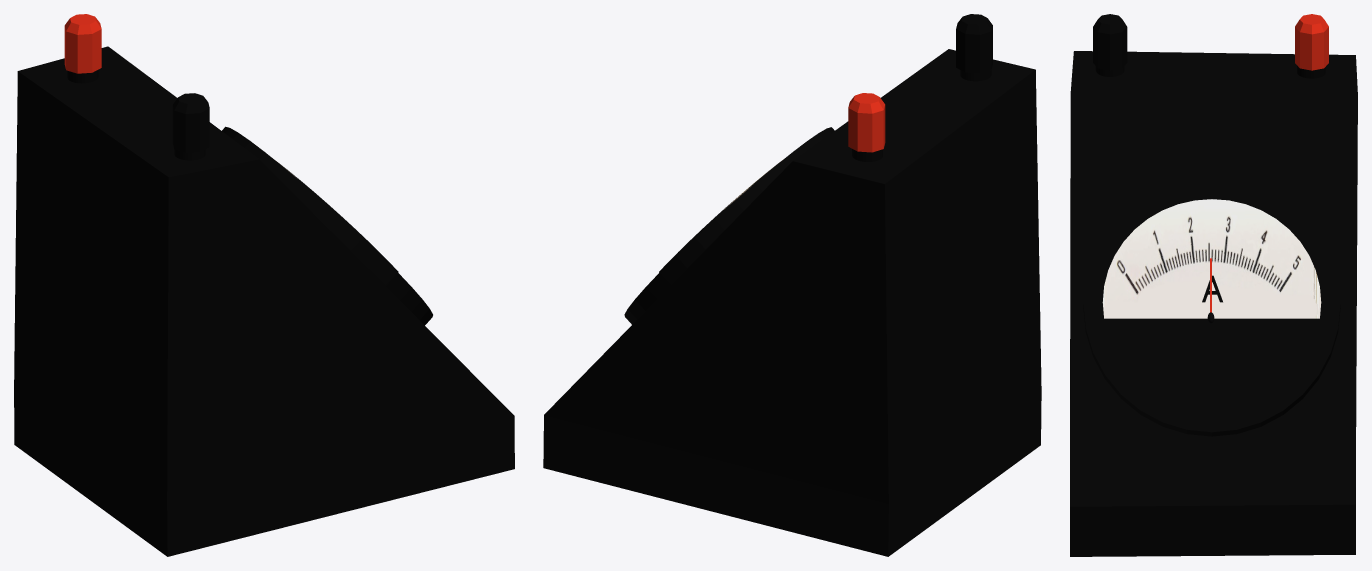
Rendered from Ammeter.fbx.
The picture shows the model from 3 angles, left to right: view 1: azimuth 30°, elevation 25°; view 2: azimuth 150°, elevation 25°; view 3: azimuth 270°, elevation 25°; orthographic projection. The views are drawn at different scales.
Parts seen in each view (by area): view 1: Cube, Cylinder.004, Cylinder.001, Cylinder; view 2: Cube, Cylinder.004, Cylinder.001, Cylinder; view 3: Cube, Cylinder.004, Cylinder.002, Cylinder, Cylinder.001.
Part boxes in pixels (box(x1,y1,x2,y2)): Cube: box(14, 46, 514, 556); Cylinder.004: box(222, 126, 432, 325); Cylinder.001: box(64, 14, 101, 73); Cylinder: box(172, 93, 209, 152); Cube: box(543, 49, 1041, 556); Cylinder.004: box(624, 127, 834, 324); Cylinder.001: box(848, 93, 885, 152); Cylinder: box(956, 14, 992, 73); Cube: box(1070, 51, 1357, 556); Cylinder.004: box(1083, 174, 1340, 436); Cylinder.002: box(1102, 199, 1321, 319); Cylinder: box(1093, 14, 1127, 70); Cylinder.001: box(1295, 14, 1328, 70).
Size of the model in its own units: 11.25 by 13.34 by 8.64.
